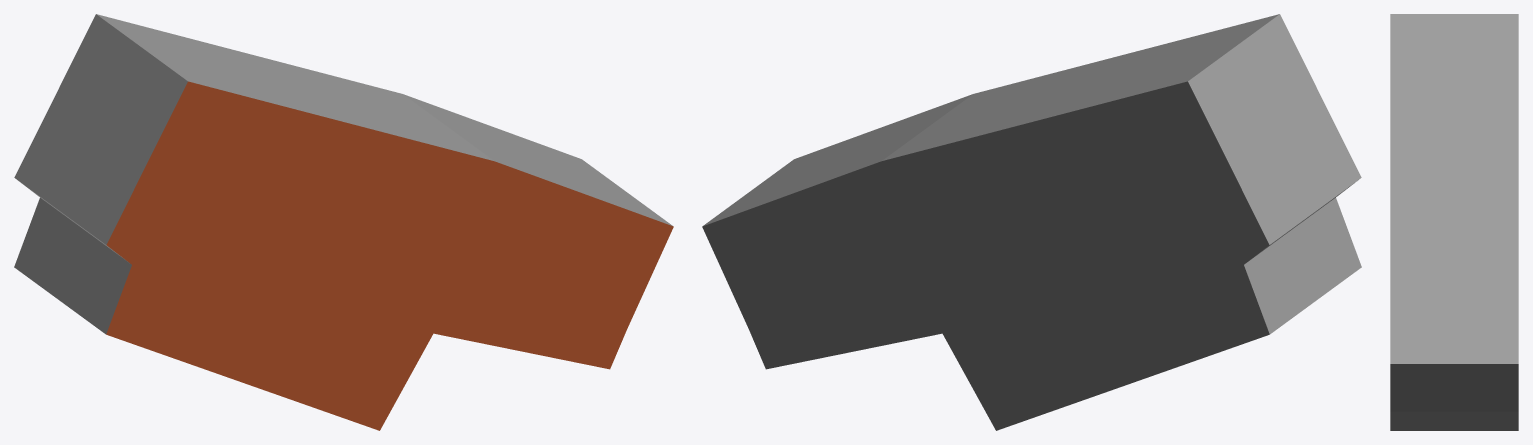
File: construction_0799_assumed_A_Casa_h6m.obj
The picture shows the model from 3 angles, left to right: view 1: azimuth 30°, elevation 25°; view 2: azimuth 150°, elevation 25°; view 3: azimuth 270°, elevation 25°; orthographic projection. The views are drawn at different scales.
Parts seen in each view (by area): view 1: construction_0799_assumed_A_Casa; view 2: construction_0799_assumed_A_Casa; view 3: construction_0799_assumed_A_Casa.
Boxes of the visible parts, x1,y1,x2,y2 form: construction_0799_assumed_A_Casa: [14, 14, 673, 430]; construction_0799_assumed_A_Casa: [702, 14, 1361, 430]; construction_0799_assumed_A_Casa: [1390, 14, 1518, 430].
Size of the model in its own units: 21.36 by 14.25 by 6.
